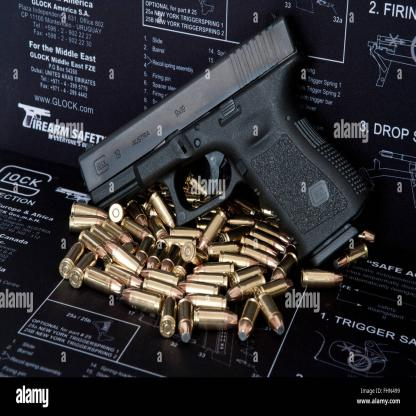handgun: (58, 14, 376, 305)
